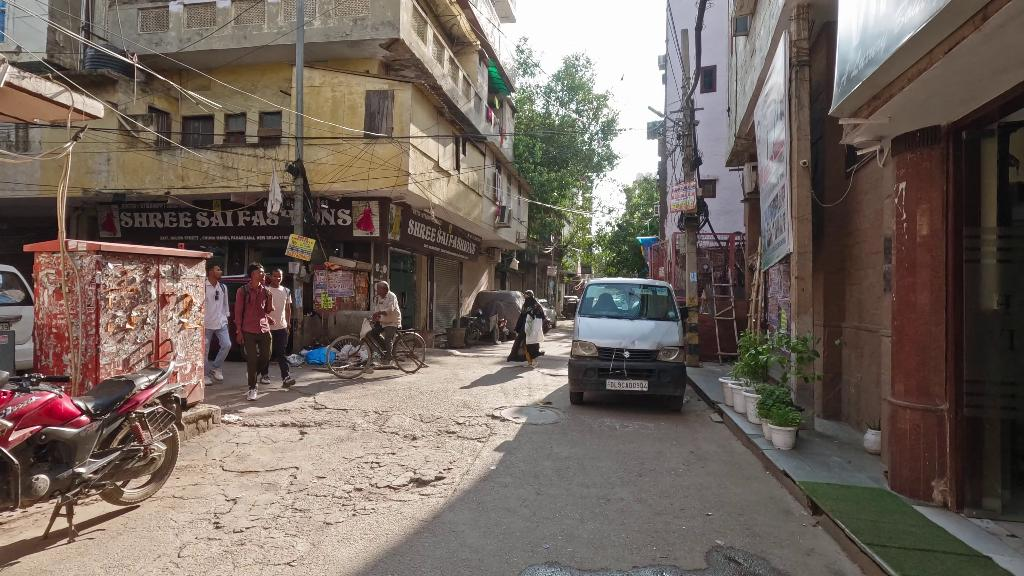garbage: (288, 349, 337, 367)
